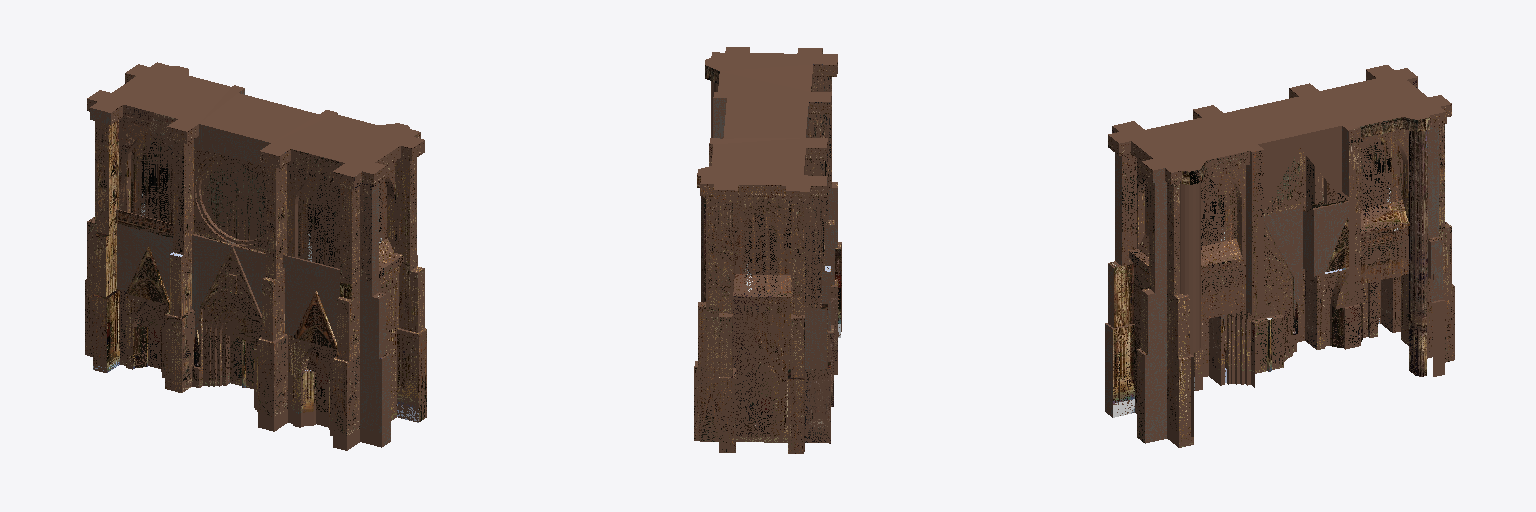
3 renders of one model, left to right at view 1: azimuth 30°, elevation 25°; view 2: azimuth 150°, elevation 25°; view 3: azimuth 270°, elevation 25°, orthographic.
Parts seen in each view (by area): view 1: Mesh1 Group4 Group3 Group2 Group1 Massif_occidentale Model; view 2: Mesh1 Group4 Group3 Group2 Group1 Massif_occidentale Model; view 3: Mesh1 Group4 Group3 Group2 Group1 Massif_occidentale Model, Mesh22 Group3 Group2 Group1 Massif_occidentale Model, Mesh52 Massif_occidentale Model, Mesh53 Massif_occidentale Model.
Part boxes in pixels (bbox=[...]): Mesh1 Group4 Group3 Group2 Group1 Massif_occidentale Model: bbox=[85, 62, 426, 450]; Mesh1 Group4 Group3 Group2 Group1 Massif_occidentale Model: bbox=[694, 47, 841, 453]; Mesh1 Group4 Group3 Group2 Group1 Massif_occidentale Model: bbox=[1105, 65, 1454, 447]; Mesh22 Group3 Group2 Group1 Massif_occidentale Model: bbox=[1180, 183, 1200, 352]; Mesh52 Massif_occidentale Model: bbox=[1431, 240, 1444, 376]; Mesh53 Massif_occidentale Model: bbox=[1179, 357, 1193, 447].
Size of the model in its own units: 40.76 by 47.2 by 54.7.
73 materials, 58 textured.